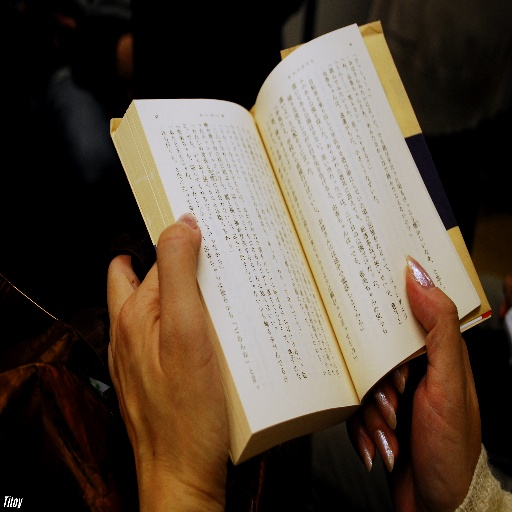hand: (98, 216, 235, 478), (345, 252, 482, 511)
